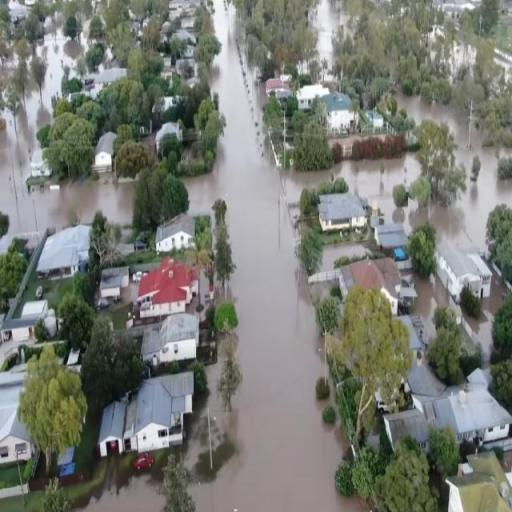flood: (185, 0, 352, 512), (282, 96, 512, 251), (0, 29, 134, 233), (75, 462, 166, 512), (453, 0, 512, 74), (462, 275, 508, 367), (411, 275, 463, 343), (189, 481, 241, 512), (84, 67, 123, 86)
house: (116, 370, 198, 456), (425, 367, 508, 450), (338, 255, 398, 321), (134, 256, 192, 324), (442, 458, 512, 512), (438, 242, 492, 304), (35, 222, 93, 278), (144, 313, 198, 367), (318, 192, 370, 233), (155, 213, 197, 256), (384, 406, 423, 450), (0, 408, 30, 465), (100, 401, 124, 456), (320, 92, 354, 130), (154, 118, 182, 164), (90, 130, 116, 171), (298, 80, 330, 113), (263, 74, 293, 102)
